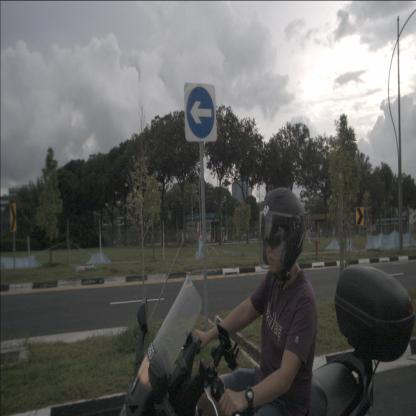vehicle-motorcycle: (90, 187, 416, 416)
